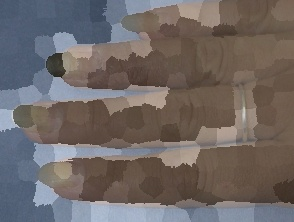Nail_psoriasis: (45, 43, 110, 83), (117, 3, 178, 43), (10, 101, 72, 139), (35, 157, 94, 195)
